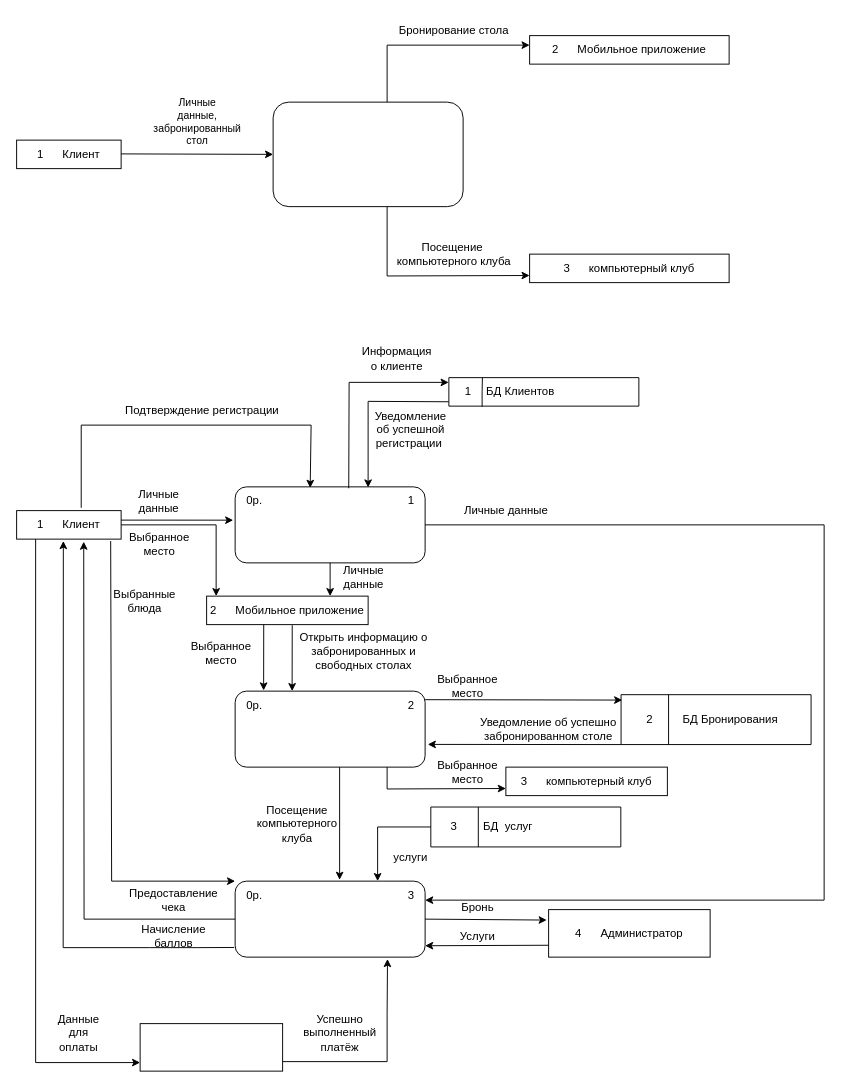
The diagram is 848 pixels wide and 1088 high, and some of its shapes have lost their labels. The shapes that lost their labels are listed below. From the top down, each one's box as (x1, y1, x2, y2) in pixels, then its label:
(272, 101, 463, 207): Система бронирования заказов онлайн
(234, 486, 425, 563): Зарегистрировать клиента
(234, 690, 425, 767): Выбрать место для бронирования
(234, 880, 425, 957): Посетить компьютерного клуба
(139, 1023, 283, 1071): 5 Платёжная система
